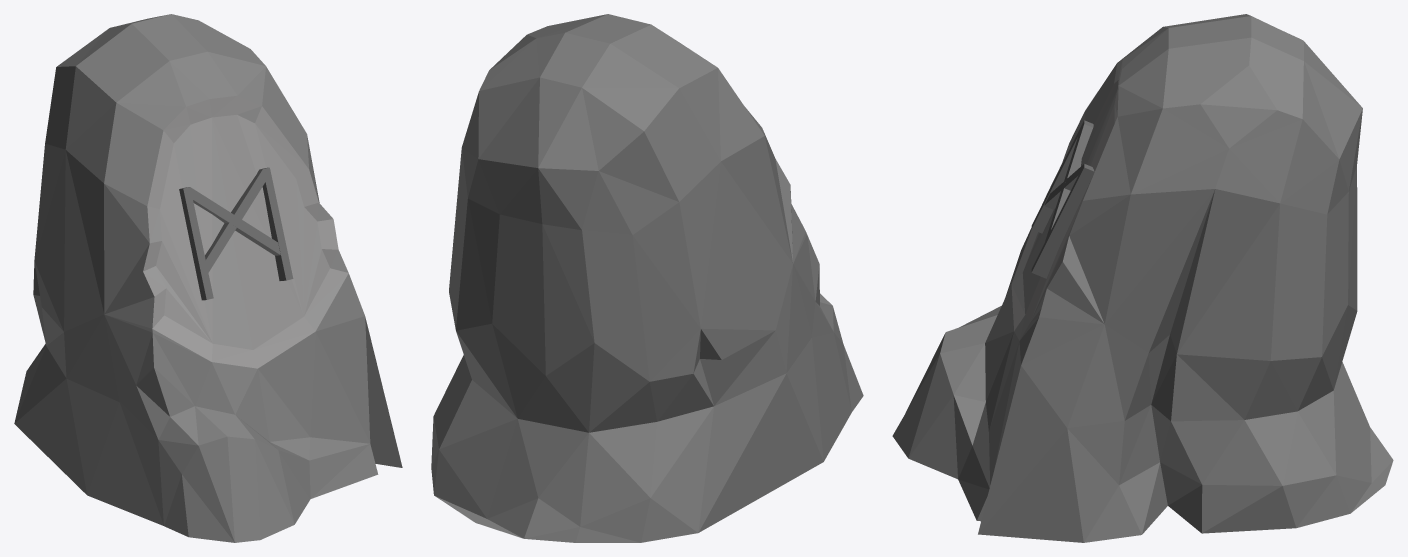
Rendered from _ruin_16.glb.
3 views of the same model, side by side, from view 1: azimuth 30°, elevation 25°; view 2: azimuth 150°, elevation 25°; view 3: azimuth 270°, elevation 25° (orthographic). The views are drawn at different scales.
Visible parts, largest first — view 1: ruin_16; view 2: ruin_16; view 3: ruin_16.
Part boxes in pixels (bbox=[...]): ruin_16: bbox=[14, 14, 402, 542]; ruin_16: bbox=[431, 14, 863, 542]; ruin_16: bbox=[892, 14, 1393, 542].
Size of the model in its own units: 1.56 by 2.08 by 2.16.
Materials: 1 (1 with a texture image).
